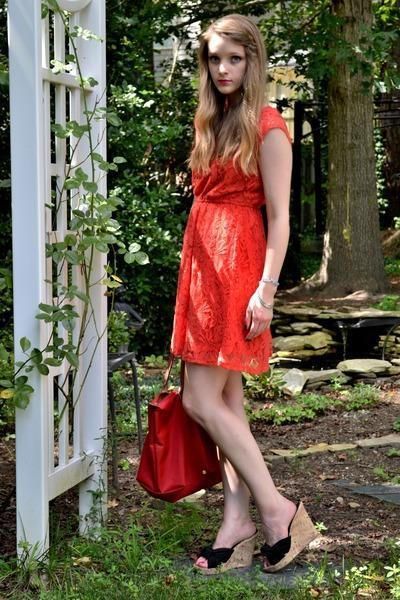bag: (136, 381, 226, 510)
dress: (170, 106, 293, 377)
shoe: (197, 522, 310, 579)
